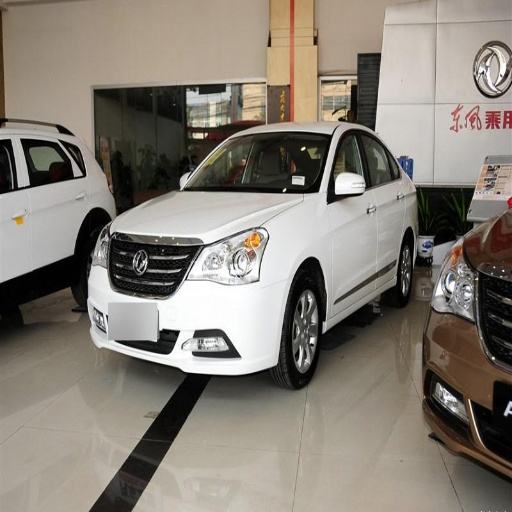front_bumper: (85, 224, 291, 373), (423, 274, 509, 455)
front_glass: (182, 132, 330, 193)
front_left_door: (327, 127, 377, 306)
front_right_light: (433, 258, 476, 321)
